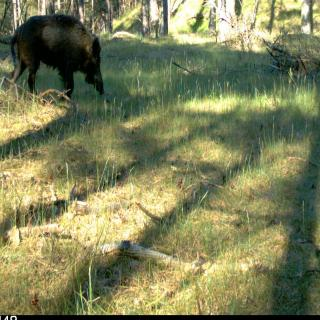Pig: (5, 11, 111, 118)
